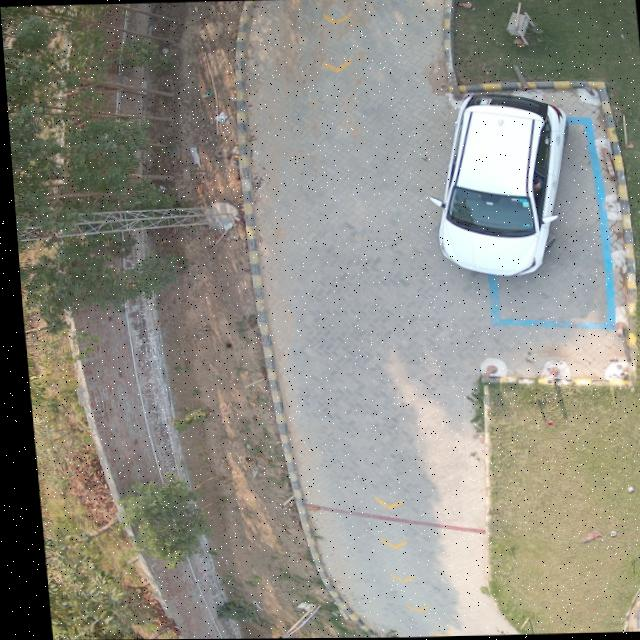car: (435, 99, 562, 276)
